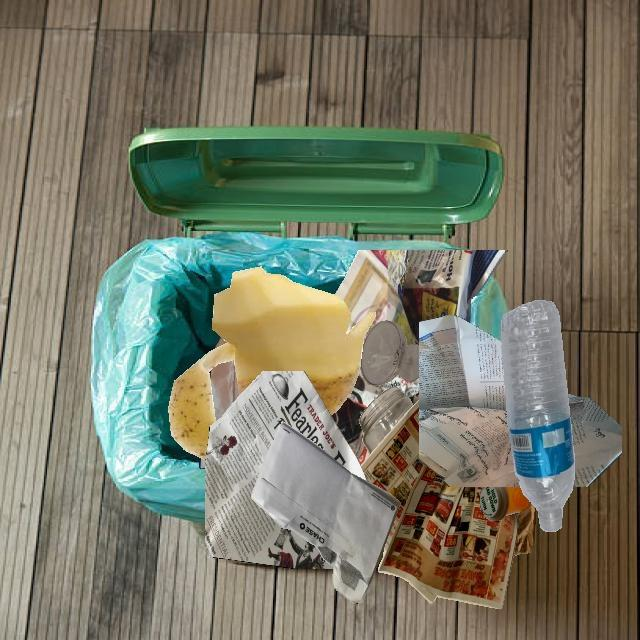biowaste: (168, 266, 375, 460)
cardboard: (514, 501, 536, 556)
glass: (360, 320, 419, 386), (359, 386, 413, 455)
paper: (360, 399, 518, 609), (205, 371, 368, 569), (251, 422, 401, 604), (419, 315, 521, 487), (335, 250, 508, 346), (211, 360, 240, 421)
plastic: (501, 300, 574, 531), (479, 487, 530, 521)
